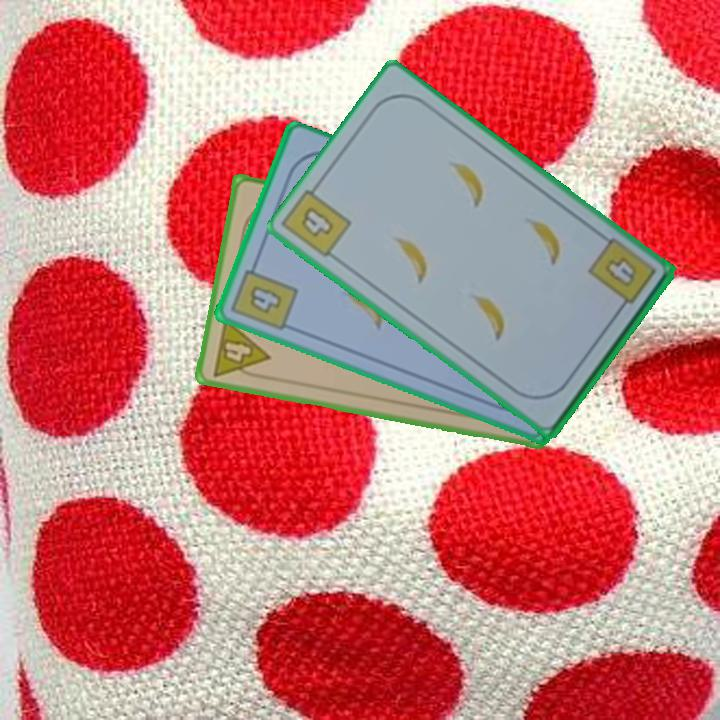4b: (584, 238, 659, 317), (227, 256, 301, 335), (297, 203, 337, 241)
4p: (208, 314, 273, 383)
